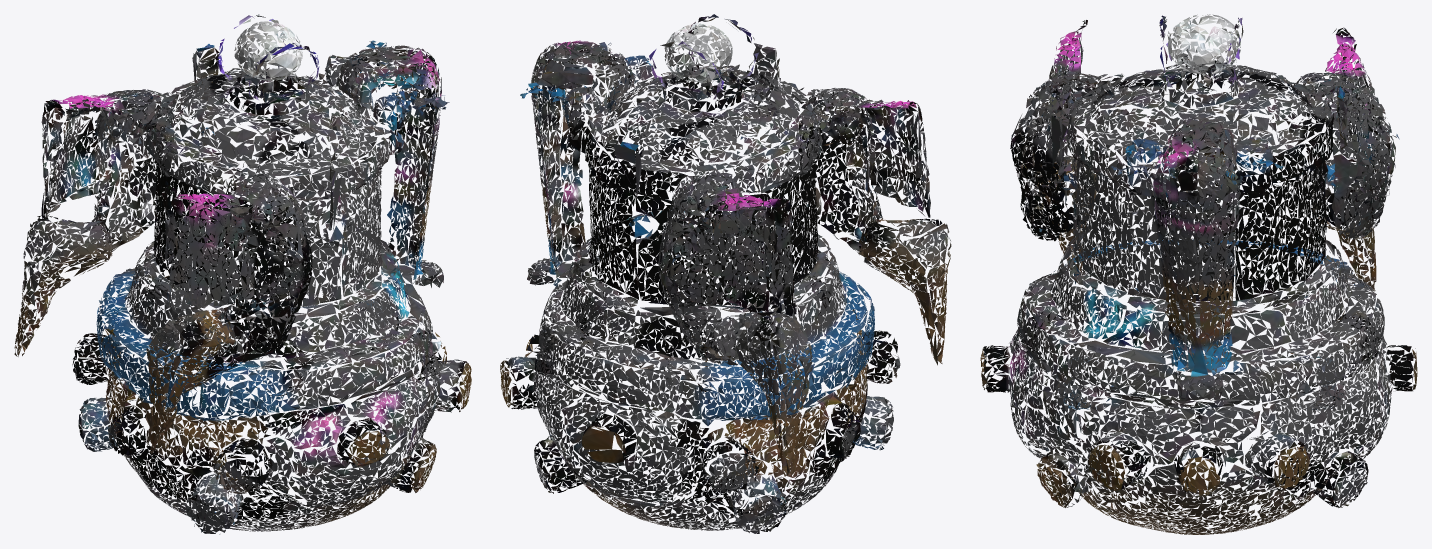
File: jinx-granade-raw_preview.glb
The picture shows the model from 3 angles, left to right: view 1: azimuth 30°, elevation 25°; view 2: azimuth 150°, elevation 25°; view 3: azimuth 270°, elevation 25°; orthographic projection. The views are drawn at different scales.
Visible parts, largest first — view 1: geometry_0; view 2: geometry_0; view 3: geometry_0.
Part boxes in pixels (x1,y1,x2,y2): geometry_0: (14,14,471,534); geometry_0: (500,14,951,533); geometry_0: (980,14,1417,534).
Bounding box in the file's own units: 1.52 × 1.99 × 1.59.
1 material, 1 textured.
